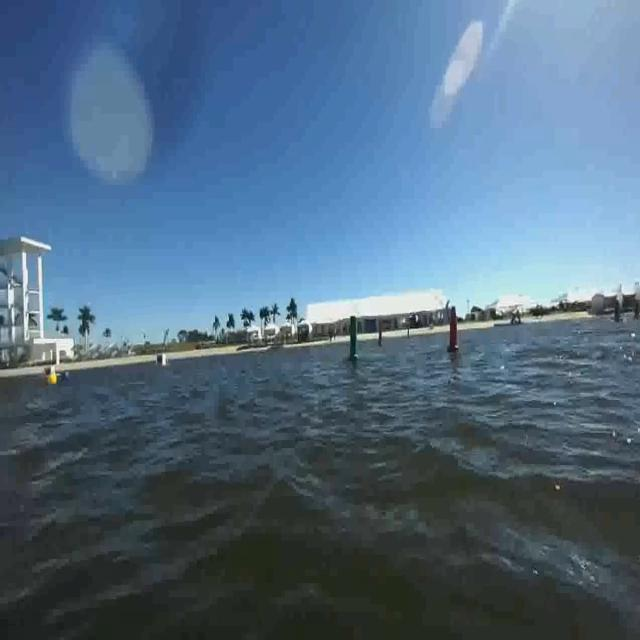green-column-buoy: (347, 316, 362, 363)
red-column-buoy: (447, 307, 461, 355)
yellow-duck: (49, 373, 57, 387)
